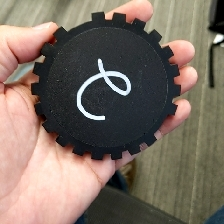gear: (29, 10, 182, 161)
missing: (53, 10, 108, 43), (144, 101, 179, 149)
